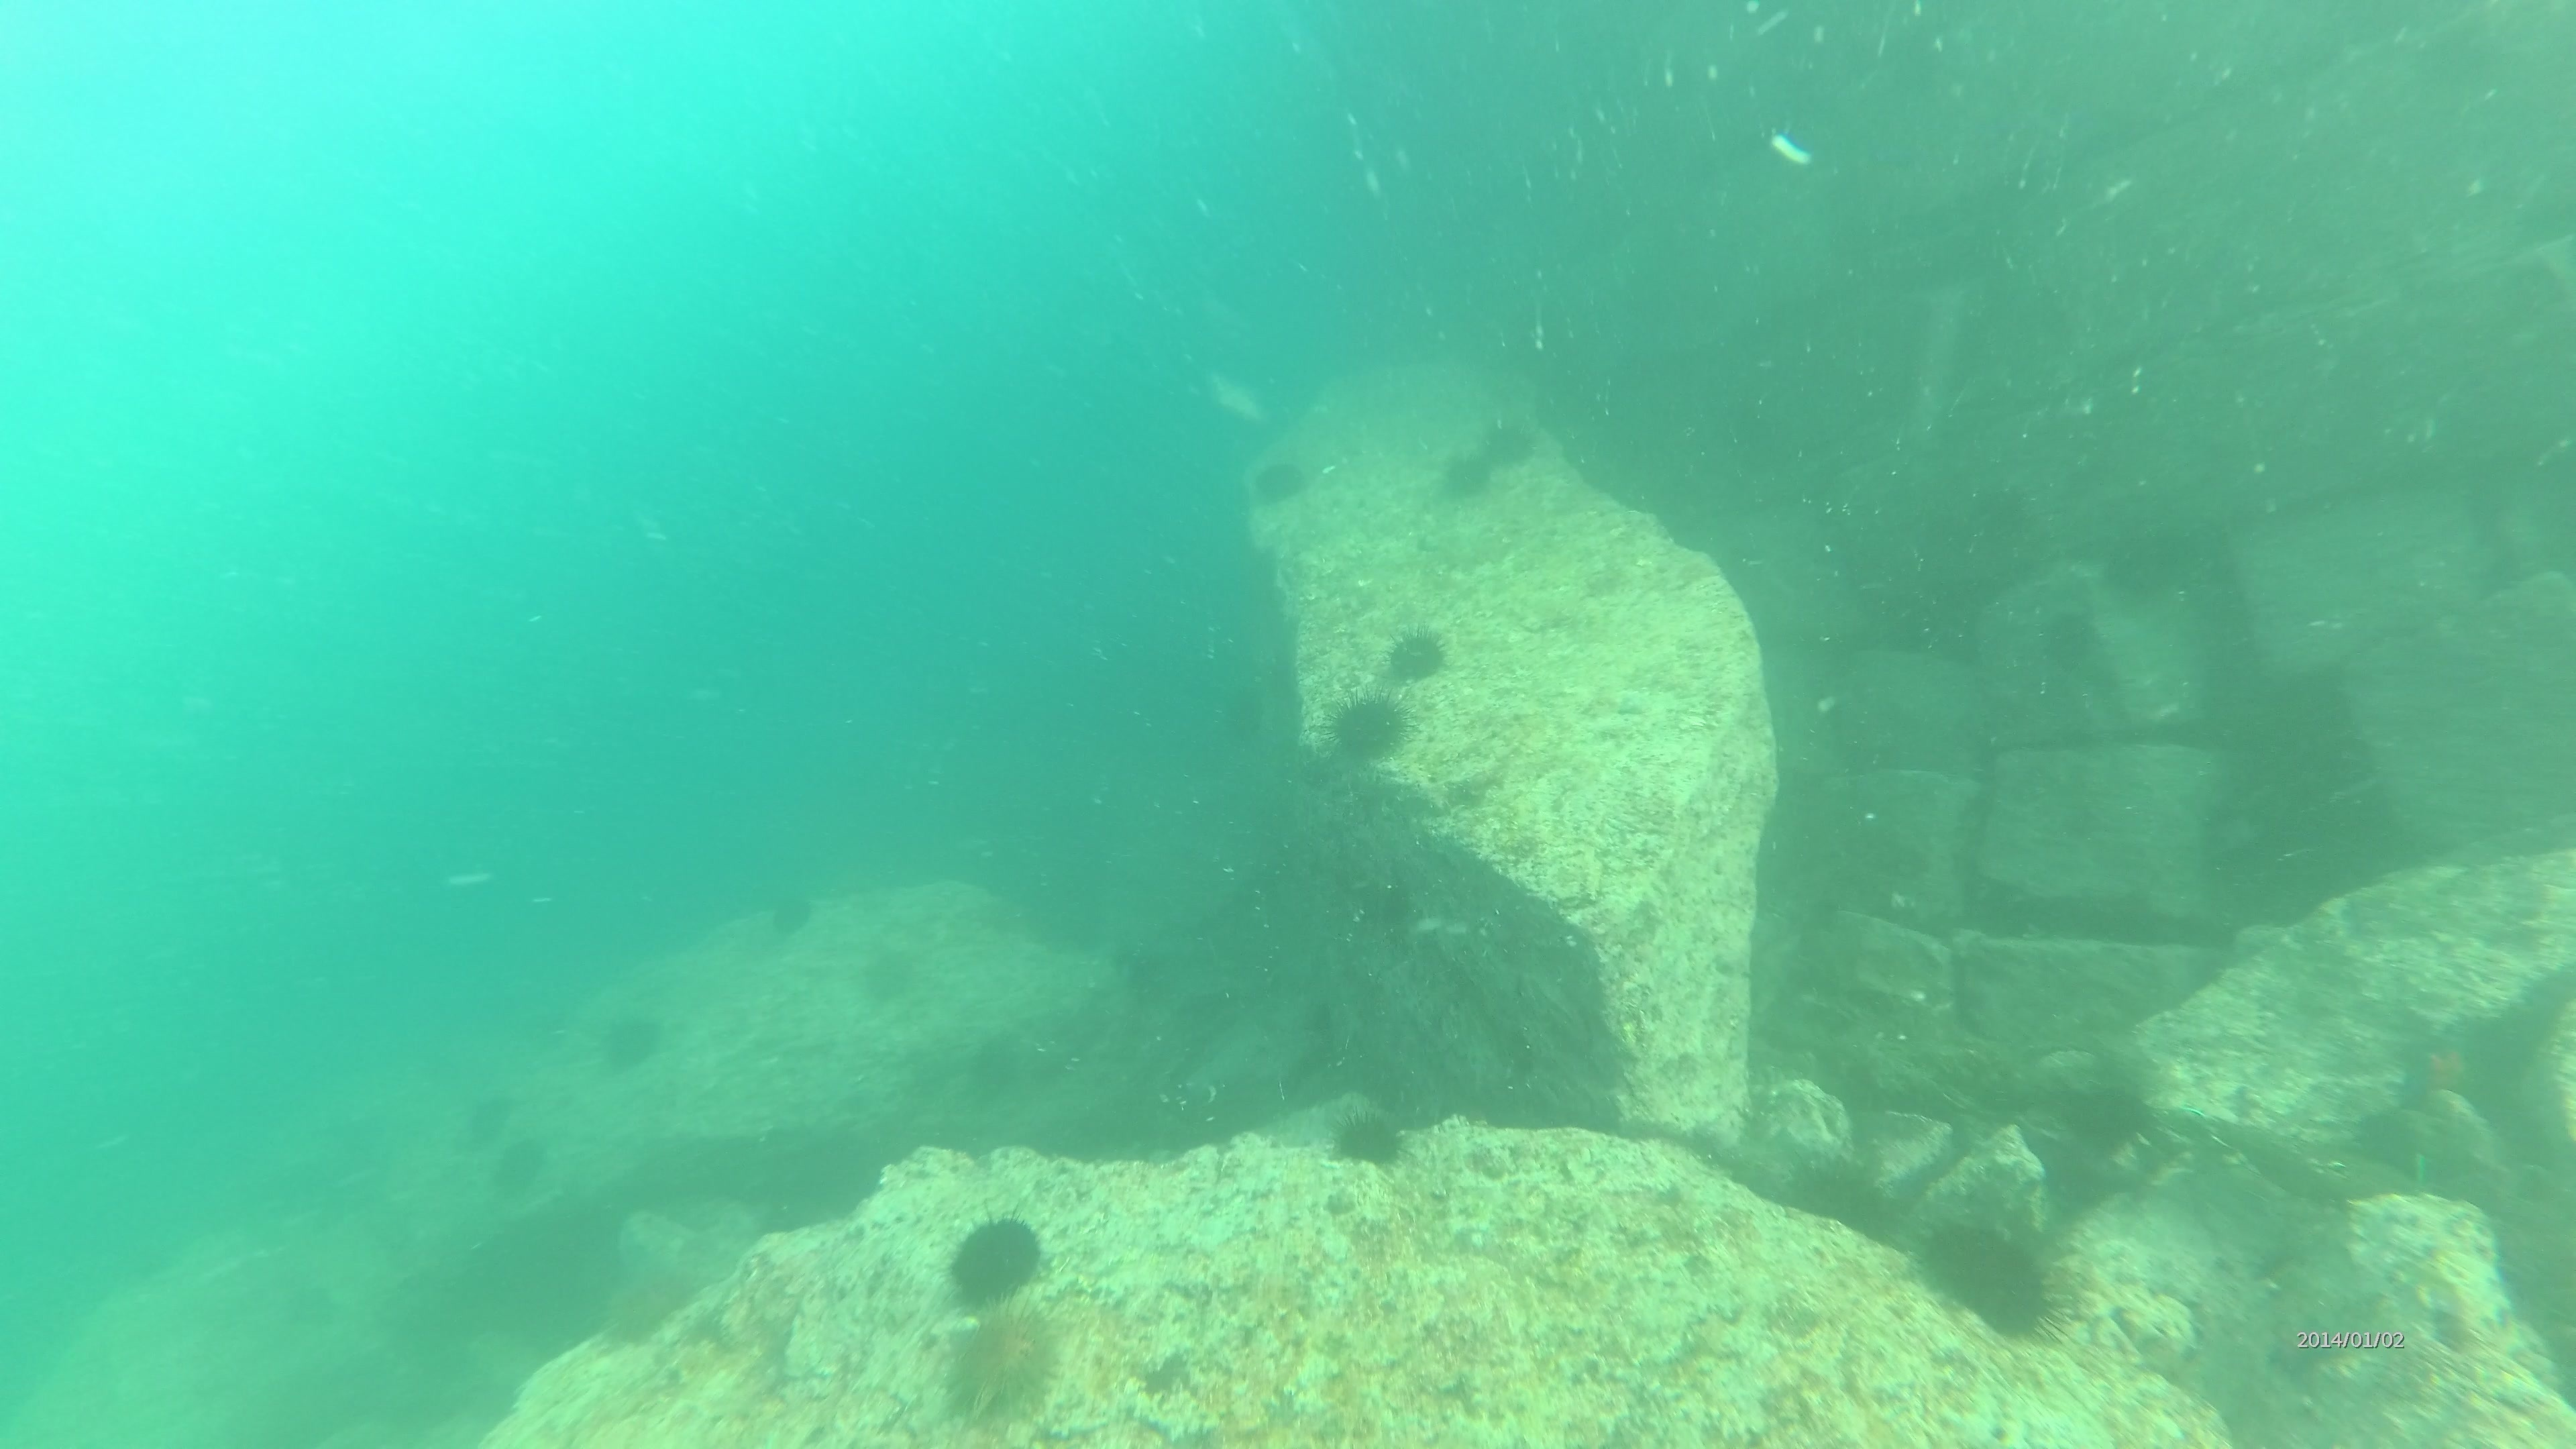echinus: (1913, 1208, 2074, 1346), (939, 1300, 1069, 1424), (1778, 1146, 1898, 1249), (939, 1207, 1051, 1315), (2054, 1062, 2162, 1162), (1320, 686, 1415, 771), (1320, 1097, 1417, 1177), (591, 1000, 672, 1079), (849, 934, 931, 1014), (1376, 617, 1454, 690), (483, 1129, 554, 1203), (754, 874, 823, 945), (458, 1085, 522, 1157), (1244, 448, 1315, 511), (1428, 453, 1499, 510), (1486, 410, 1553, 462)
starfish: (2387, 1019, 2482, 1115)
